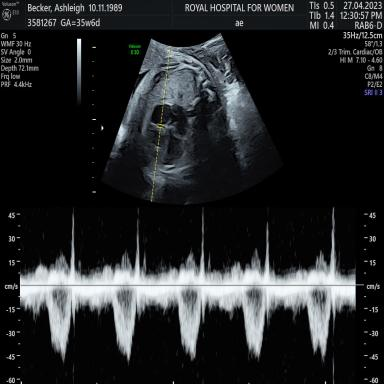Ultrasound-Waves: (26, 207, 355, 384)
